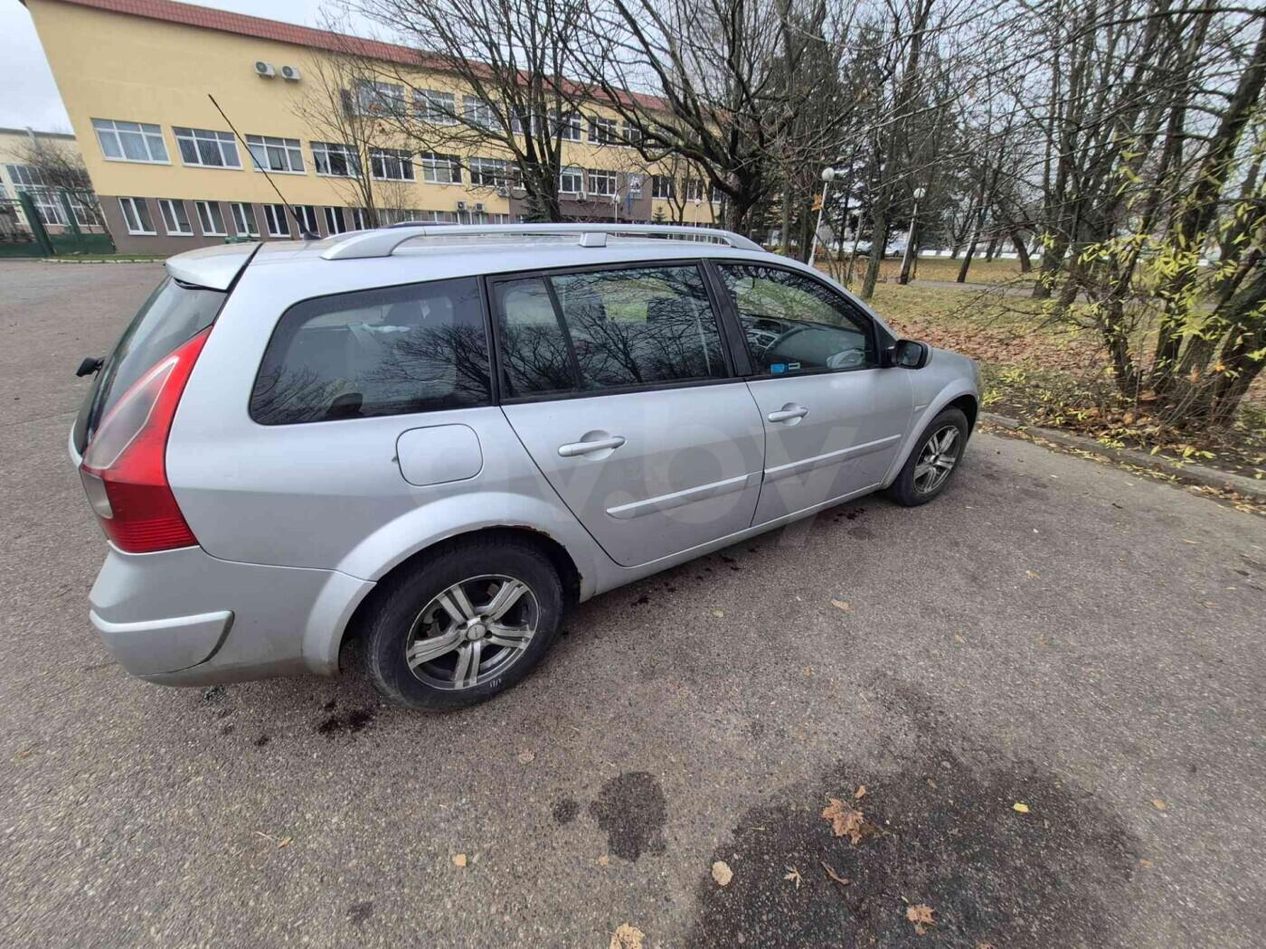Megane_2005-2009: (59, 213, 1006, 726)
